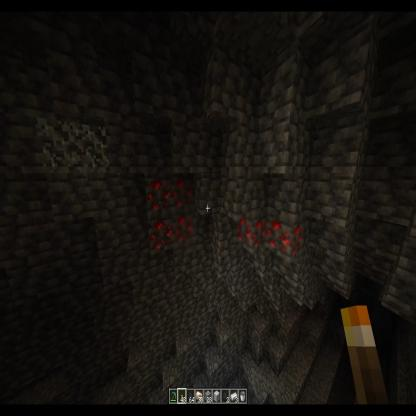redstone ore: (263, 215, 304, 263), (234, 208, 266, 254), (148, 214, 175, 259), (173, 214, 196, 252), (174, 175, 194, 217)
